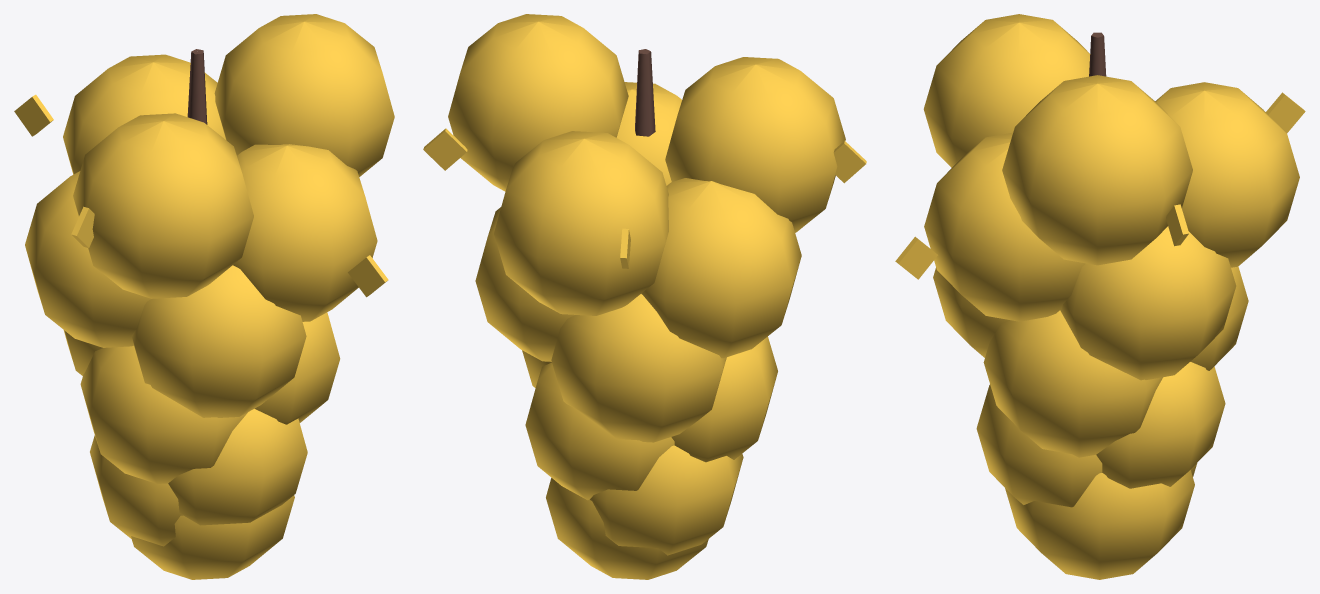
The model's file is fruit-grape-gold.gltf.
3 renders of one model, left to right at view 1: azimuth 30°, elevation 25°; view 2: azimuth 150°, elevation 25°; view 3: azimuth 270°, elevation 25°, orthographic. The views are drawn at different scales.
Size of the model in its own units: 0.2996 by 0.4167 by 0.2887.
